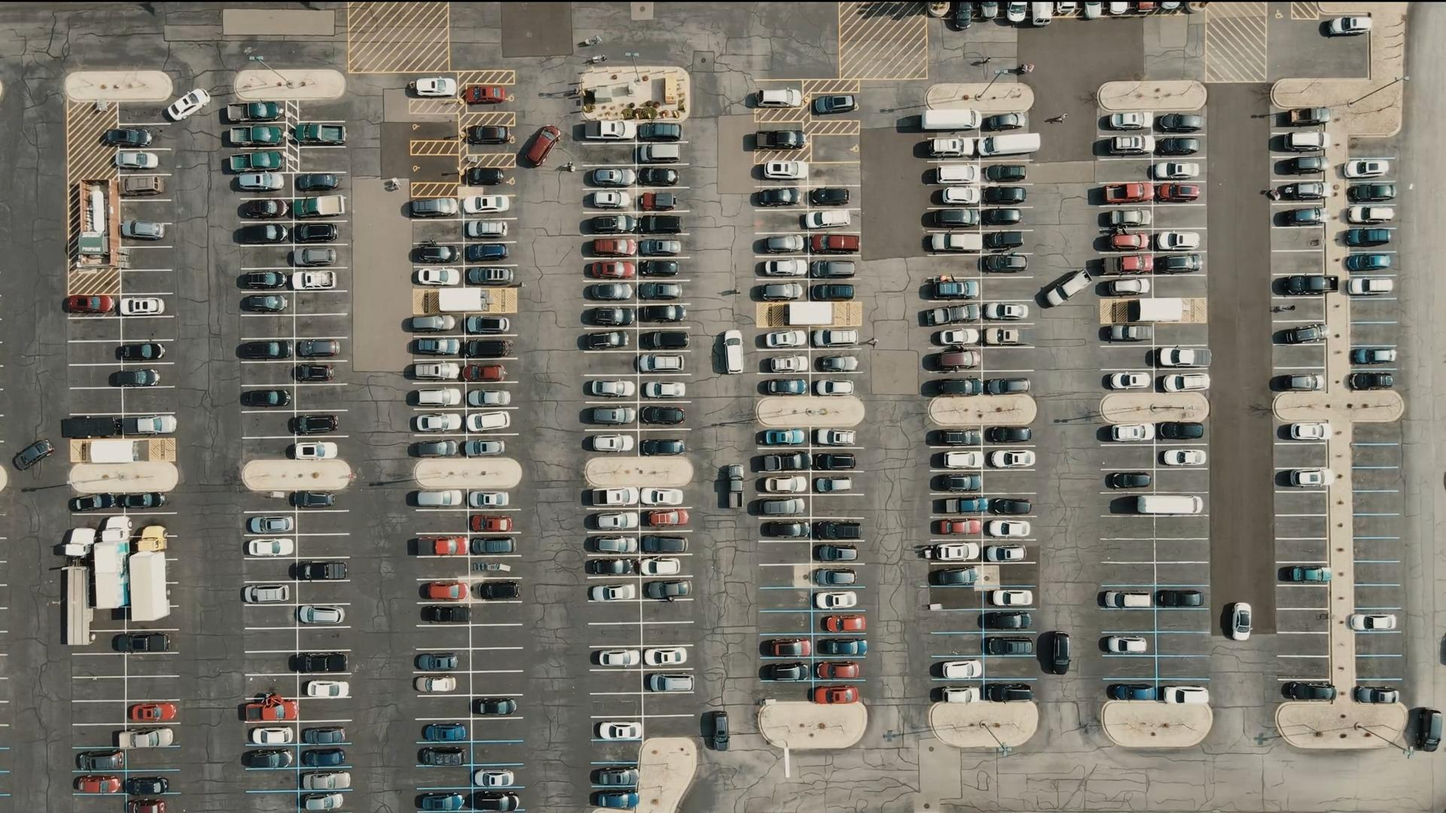car: (1046, 112, 1068, 124)
free: (1346, 303, 1405, 346), (73, 666, 130, 696), (68, 313, 126, 341), (127, 650, 186, 677), (71, 717, 130, 744), (295, 309, 352, 336), (127, 676, 182, 703), (407, 218, 466, 243), (412, 516, 471, 541), (468, 601, 527, 626), (414, 628, 473, 653), (468, 718, 527, 743), (476, 742, 535, 767), (410, 698, 469, 723), (423, 770, 482, 795), (288, 698, 347, 723), (240, 788, 299, 813), (238, 361, 297, 386), (127, 750, 186, 775), (647, 690, 706, 715), (589, 692, 648, 717), (590, 669, 649, 694), (587, 740, 646, 765), (592, 623, 651, 648), (589, 601, 648, 626), (643, 620, 702, 645), (814, 495, 873, 520), (761, 680, 820, 705), (753, 565, 812, 590), (751, 585, 810, 610), (755, 611, 814, 636), (1153, 471, 1212, 496), (754, 543, 813, 568), (929, 635, 988, 660), (1098, 566, 1157, 591), (1152, 563, 1211, 588), (1159, 633, 1218, 658), (1156, 654, 1215, 679), (981, 471, 1040, 496), (1158, 535, 1217, 560), (1097, 536, 1156, 561), (810, 132, 869, 157), (751, 207, 810, 232), (586, 351, 645, 376), (1156, 604, 1215, 629), (919, 254, 978, 279), (982, 273, 1041, 298), (1355, 507, 1414, 532), (1356, 535, 1415, 560), (1353, 562, 1412, 587), (1354, 586, 1413, 611), (1357, 631, 1416, 656), (1354, 652, 1413, 677), (1271, 517, 1330, 542), (1268, 490, 1327, 515), (1102, 342, 1161, 367), (1350, 466, 1409, 491), (1351, 449, 1410, 474), (1271, 249, 1330, 274), (1271, 345, 1330, 370), (1271, 228, 1330, 253), (1154, 273, 1213, 298), (1158, 199, 1217, 224), (1098, 158, 1157, 183), (246, 408, 294, 438), (567, 140, 626, 164), (418, 556, 477, 580), (467, 632, 526, 656), (475, 675, 534, 699), (245, 766, 304, 790), (235, 563, 294, 587), (300, 145, 359, 169), (645, 599, 704, 623), (1096, 511, 1155, 535), (928, 608, 987, 632), (1099, 656, 1158, 680), (985, 349, 1044, 373), (809, 164, 868, 188), (1275, 609, 1334, 633), (1103, 608, 1162, 632), (1277, 647, 1336, 671), (1277, 590, 1336, 614), (1273, 540, 1332, 564), (1352, 493, 1411, 517), (122, 269, 176, 293), (73, 385, 122, 410), (69, 363, 114, 388), (123, 193, 174, 215), (122, 319, 176, 339), (241, 242, 296, 261), (299, 579, 344, 601), (294, 385, 346, 404), (246, 676, 299, 694), (121, 388, 176, 405), (305, 626, 346, 648), (295, 541, 350, 557), (296, 517, 352, 532), (64, 343, 125, 356), (246, 632, 294, 648), (249, 610, 295, 625), (296, 296, 349, 309), (245, 320, 293, 333), (119, 252, 179, 262), (77, 708, 123, 721)
occupied: (919, 343, 983, 385), (1039, 270, 1089, 309), (803, 422, 867, 450), (235, 527, 301, 554), (637, 429, 701, 456), (522, 125, 561, 167), (649, 511, 703, 540), (165, 88, 211, 122), (920, 163, 985, 187), (244, 694, 297, 722), (467, 313, 520, 341), (572, 164, 636, 187), (579, 250, 643, 273), (571, 307, 635, 330), (638, 328, 702, 351), (750, 469, 814, 492), (1158, 243, 1222, 266), (395, 383, 459, 406), (645, 382, 709, 405), (985, 156, 1032, 187), (589, 533, 645, 559), (581, 331, 644, 354), (638, 256, 701, 279), (630, 160, 693, 183), (641, 352, 704, 375), (576, 377, 639, 400), (571, 400, 634, 423), (750, 522, 813, 545), (983, 541, 1046, 564), (750, 333, 813, 356), (755, 353, 818, 376), (747, 373, 810, 396), (807, 382, 870, 405), (1039, 630, 1071, 675), (916, 182, 976, 206), (1410, 709, 1443, 752), (576, 232, 640, 254), (575, 279, 639, 301), (638, 282, 702, 304), (637, 235, 701, 257), (636, 210, 700, 232), (570, 430, 634, 452), (928, 516, 992, 538), (925, 494, 989, 516), (987, 495, 1051, 517), (981, 425, 1045, 447), (982, 375, 1046, 397), (982, 319, 1046, 341), (812, 471, 876, 493), (810, 455, 874, 477), (804, 330, 868, 352), (815, 424, 879, 446), (400, 336, 464, 358), (407, 431, 471, 453), (291, 265, 349, 289), (580, 192, 643, 214), (575, 215, 638, 237), (631, 308, 694, 330), (636, 186, 699, 208), (644, 379, 707, 401), (640, 398, 703, 420), (756, 500, 819, 522), (984, 515, 1047, 537), (929, 473, 992, 495), (923, 443, 986, 465), (923, 374, 986, 396), (1277, 463, 1340, 485), (757, 419, 820, 441), (408, 408, 471, 430), (394, 351, 457, 373), (980, 133, 1039, 156), (13, 439, 55, 471), (1136, 495, 1202, 515), (987, 443, 1039, 468), (1131, 299, 1183, 323), (1222, 602, 1253, 641), (61, 417, 115, 439), (923, 109, 977, 131), (113, 633, 171, 653), (1282, 681, 1337, 702), (119, 728, 173, 749), (230, 126, 284, 147), (587, 81, 636, 104), (471, 341, 520, 364), (987, 221, 1032, 246), (921, 205, 977, 225), (293, 123, 346, 144), (721, 329, 745, 375), (85, 187, 108, 235), (413, 484, 459, 508), (1104, 182, 1154, 204), (924, 228, 988, 245), (466, 402, 513, 425), (1281, 275, 1335, 295), (702, 711, 729, 751), (230, 102, 284, 122), (292, 653, 346, 673), (229, 151, 283, 171), (296, 195, 345, 217), (294, 561, 347, 581), (1323, 15, 1371, 37), (98, 515, 134, 544), (1281, 130, 1326, 153), (645, 558, 688, 582), (1344, 158, 1393, 179), (60, 528, 98, 555), (63, 295, 114, 315), (242, 749, 293, 769), (639, 489, 690, 509), (474, 791, 520, 813), (584, 121, 634, 141), (645, 527, 688, 550), (930, 233, 982, 252), (77, 751, 124, 772), (463, 194, 510, 215), (1160, 347, 1209, 367), (760, 662, 809, 682), (459, 385, 524, 400), (112, 369, 163, 388), (466, 410, 510, 432), (469, 359, 515, 380), (129, 702, 177, 722), (303, 770, 351, 790), (804, 208, 852, 228), (134, 525, 168, 553), (1101, 590, 1151, 609), (984, 684, 1034, 703), (239, 341, 289, 360), (71, 493, 121, 512), (590, 508, 640, 527), (757, 87, 802, 108), (123, 776, 170, 796), (291, 415, 338, 435), (472, 535, 527, 552), (1284, 468, 1333, 487), (417, 792, 466, 811), (594, 767, 640, 787), (596, 721, 642, 741), (302, 748, 348, 768), (242, 199, 288, 219), (926, 137, 972, 157), (1278, 208, 1329, 226), (1275, 182, 1326, 200), (105, 128, 153, 147), (419, 747, 467, 766), (117, 343, 165, 362), (297, 605, 345, 624), (411, 197, 459, 216), (1347, 205, 1395, 224), (1161, 373, 1209, 392), (1349, 182, 1397, 201), (813, 94, 856, 115), (121, 219, 166, 239), (813, 685, 858, 705), (294, 223, 339, 243), (764, 638, 809, 658), (1346, 277, 1393, 296), (1282, 325, 1329, 344), (75, 775, 122, 794), (237, 172, 284, 191), (1346, 253, 1393, 272), (758, 130, 805, 149), (413, 245, 460, 264), (414, 76, 456, 97), (122, 174, 164, 195), (1281, 565, 1330, 583), (1345, 228, 1394, 246), (241, 389, 290, 407), (462, 85, 508, 104), (593, 791, 639, 810), (1286, 107, 1332, 126), (1349, 372, 1395, 391), (291, 441, 337, 460), (243, 584, 289, 603), (1156, 137, 1202, 156), (1162, 686, 1210, 704), (295, 173, 343, 191), (1156, 113, 1204, 131), (987, 638, 1035, 656), (421, 605, 469, 623), (1105, 209, 1153, 227), (939, 659, 982, 679), (425, 581, 468, 601), (644, 647, 687, 667), (478, 581, 521, 601), (423, 723, 468, 742), (1287, 422, 1332, 441), (1104, 635, 1149, 654), (473, 697, 518, 716), (249, 726, 294, 745), (1106, 136, 1151, 155), (1156, 183, 1201, 202), (1283, 155, 1328, 174), (980, 252, 1025, 271), (1349, 613, 1396, 631), (1157, 590, 1204, 608), (1105, 112, 1152, 130), (241, 271, 288, 289), (1104, 372, 1151, 390), (1156, 255, 1203, 273), (983, 181, 1030, 199), (133, 415, 177, 434), (638, 122, 682, 141), (297, 339, 341, 358), (822, 614, 866, 633), (1158, 231, 1202, 250), (816, 661, 860, 680), (1107, 684, 1156, 701), (415, 490, 464, 507), (648, 675, 694, 693), (242, 295, 288, 313), (1108, 424, 1154, 442), (247, 538, 293, 556), (595, 649, 641, 667), (1154, 162, 1200, 180), (121, 297, 164, 316), (293, 271, 336, 290), (462, 439, 505, 458), (1276, 374, 1324, 391), (468, 126, 513, 144), (302, 728, 347, 746), (247, 516, 292, 534), (1162, 448, 1207, 466), (934, 568, 979, 586), (983, 206, 1033, 222), (1104, 325, 1151, 342), (411, 315, 458, 332), (301, 792, 343, 811), (1112, 254, 1154, 273), (427, 537, 469, 556), (1354, 686, 1398, 704), (466, 168, 510, 186), (305, 680, 349, 698), (416, 268, 460, 286), (466, 220, 510, 238), (931, 543, 975, 561), (1351, 347, 1397, 364), (640, 143, 681, 162), (763, 160, 804, 179), (1109, 231, 1150, 250), (1109, 278, 1152, 296), (293, 247, 336, 265), (118, 493, 166, 509), (727, 461, 743, 509), (291, 491, 336, 508), (415, 654, 460, 671), (468, 267, 513, 284), (475, 769, 515, 788), (118, 151, 160, 169), (591, 488, 638, 504), (1108, 472, 1152, 489), (990, 589, 1034, 606), (466, 244, 510, 261), (939, 686, 980, 704), (984, 112, 1025, 130), (589, 585, 635, 601), (1161, 423, 1204, 440), (294, 364, 334, 382), (415, 675, 457, 692), (469, 491, 509, 508), (592, 568, 634, 584), (472, 489, 520, 501), (127, 799, 167, 813), (1031, 1, 1054, 25), (1006, 1, 1028, 23), (955, 1, 973, 26), (1054, 0, 1077, 18), (1083, 0, 1103, 19), (981, 1, 999, 19), (1109, 1, 1130, 16), (1136, 1, 1157, 14), (1160, 1, 1182, 13), (565, 85, 582, 99), (1271, 304, 1295, 313), (1018, 63, 1035, 74), (620, 195, 623, 205)
